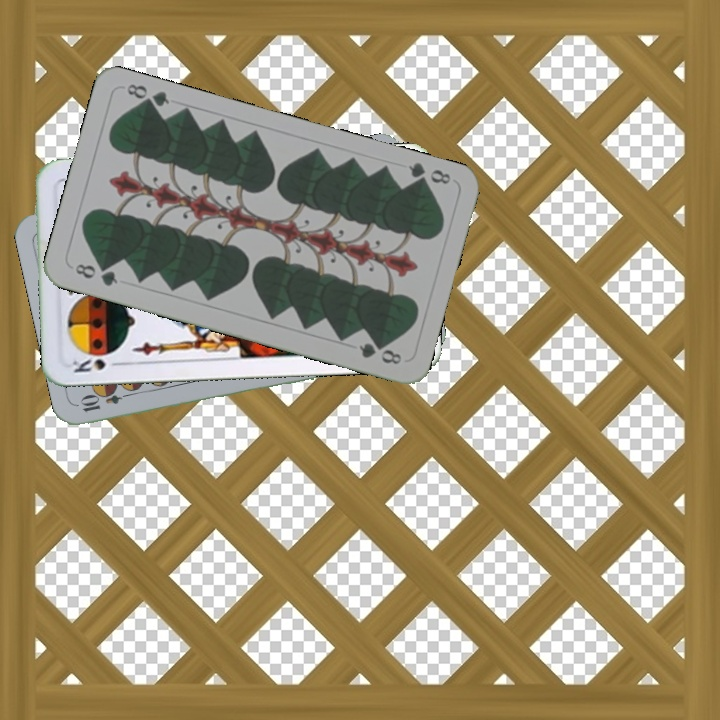E10: (77, 386, 136, 415)
G8: (404, 158, 453, 190), (71, 259, 120, 289)
SK: (68, 354, 125, 375)
